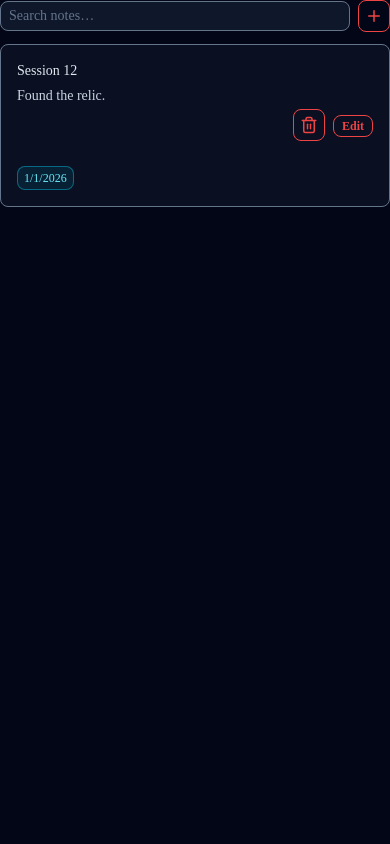
NotesTab editing and deleting › tapping the card itself opens a read view, not an editable form, even when editable
The width and height of the screenshot is (390, 844).
Click the button named "Open note Session 12".
click(195, 125)  # box [1,45,389,206]
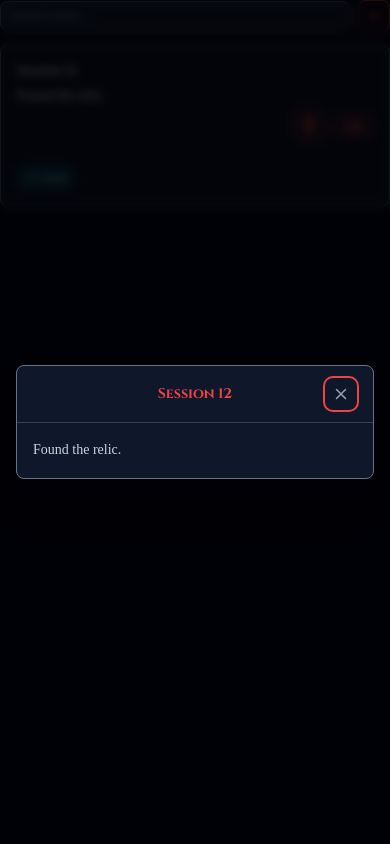
Check: the text "Found the relic." is shown, box [33,442,121,457]
